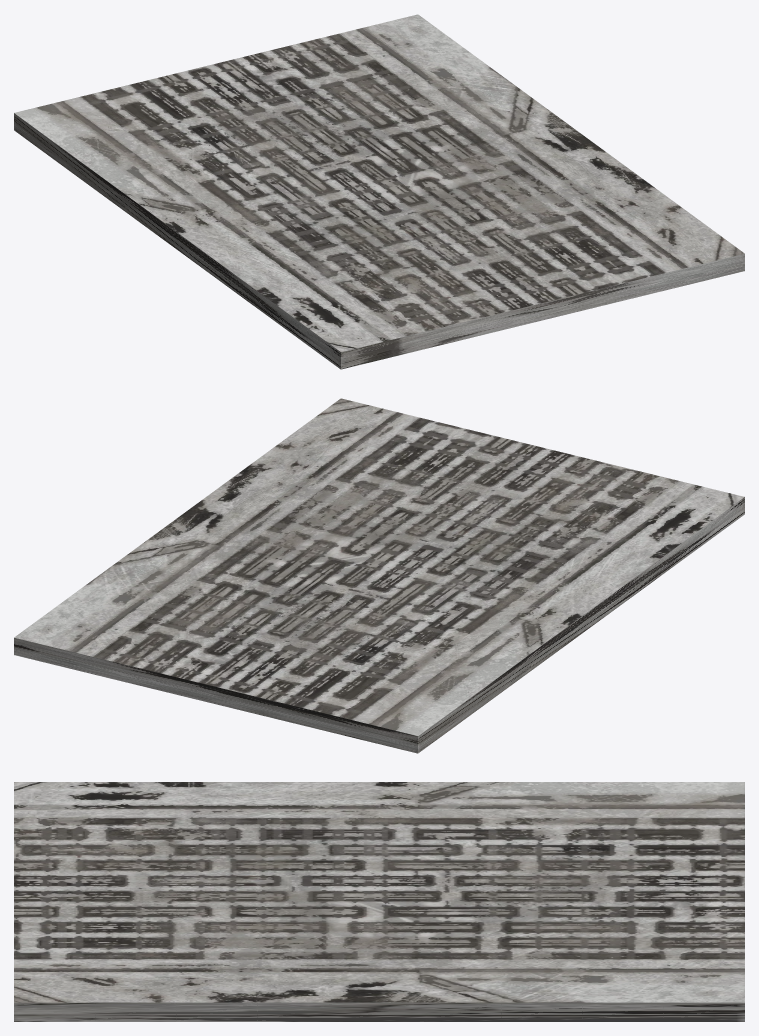
Rendered from roof-panel.glb.
The picture shows the model from 3 angles, top to bottom: view 1: azimuth 30°, elevation 25°; view 2: azimuth 150°, elevation 25°; view 3: azimuth 270°, elevation 25°; orthographic projection. The views are drawn at different scales.
Visible parts, largest first — view 1: defaultMaterial; view 2: defaultMaterial; view 3: defaultMaterial.
Part boxes in pixels (<box>): defaultMaterial: <box>14,14,744,369</box>; defaultMaterial: <box>14,398,744,753</box>; defaultMaterial: <box>14,782,744,1021</box>.
Size of the model in its own units: 4.53 by 0.1865 by 6.35.
Materials: 1 (1 with a texture image).
